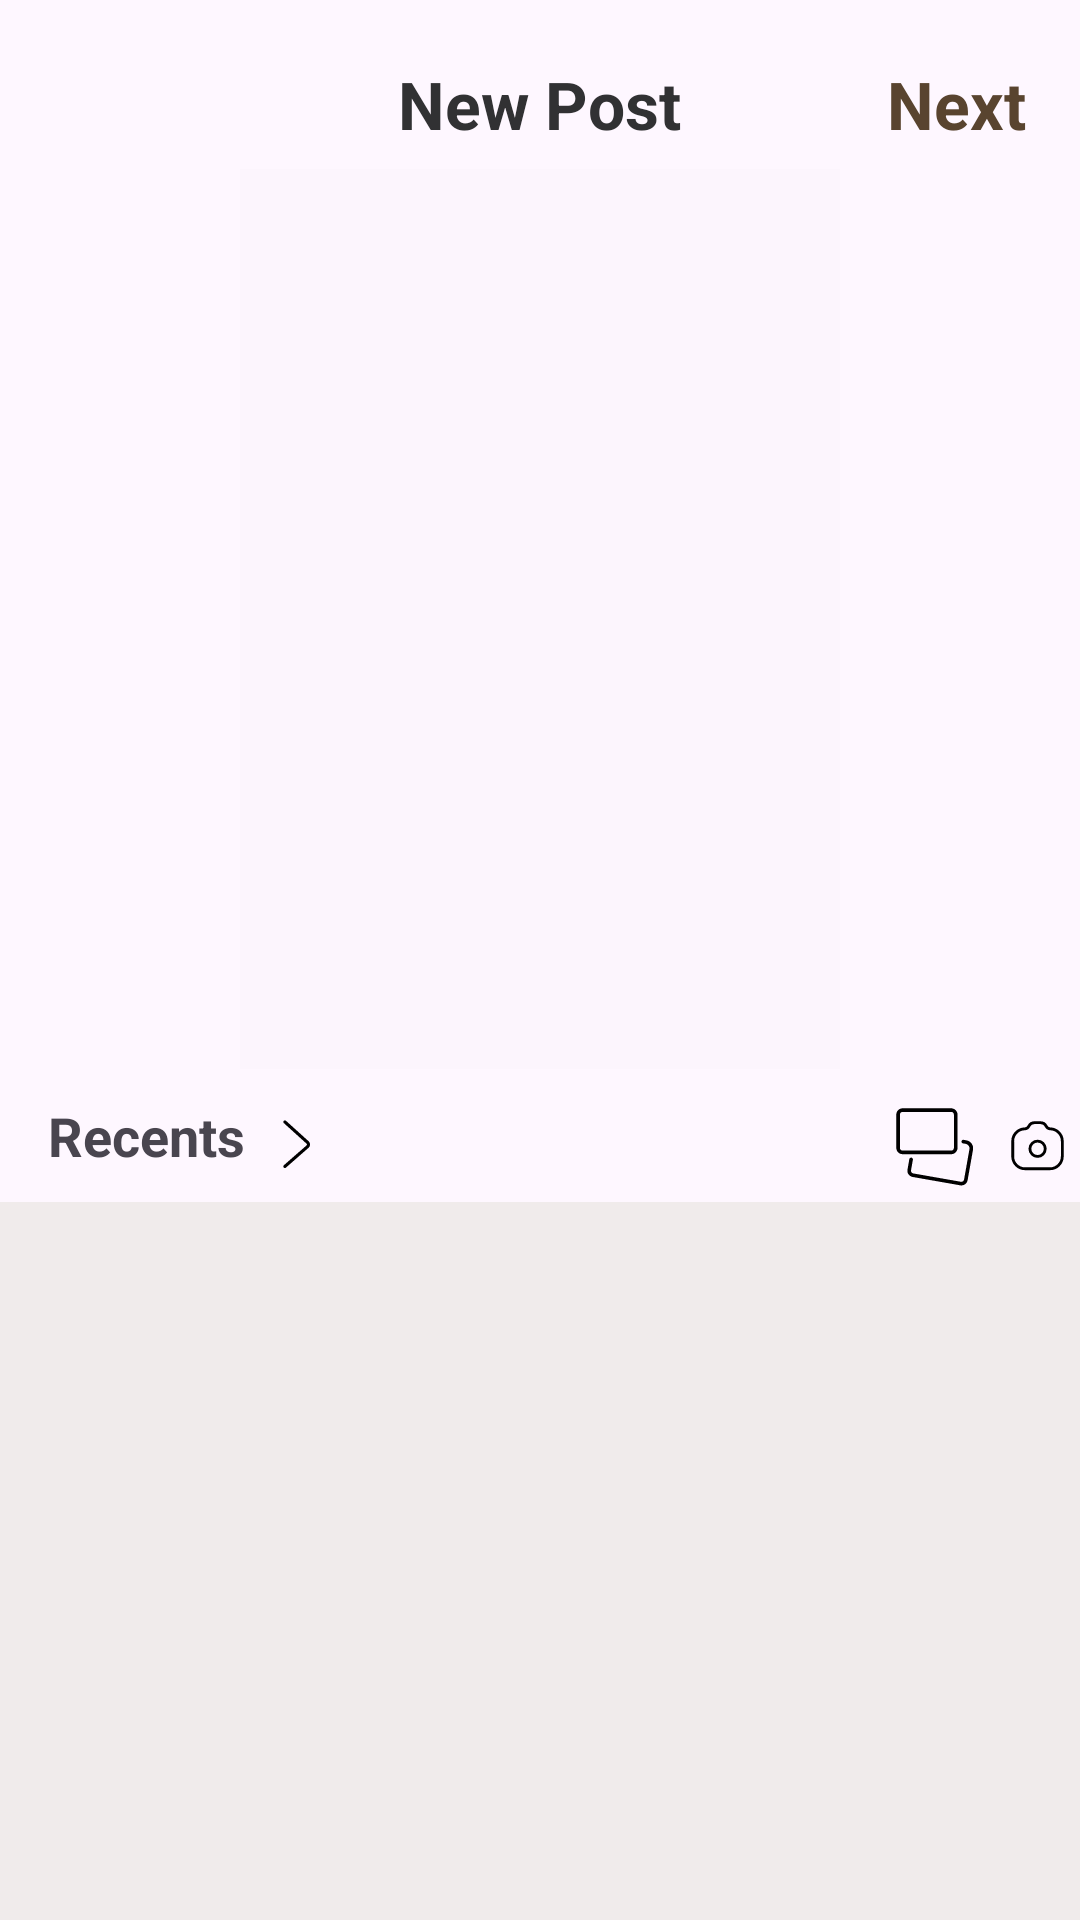

Where to tap for icons on this 1080*1920 app screen, as point (x, y):
album: point (934, 1147)
camera: point (1037, 1146)
